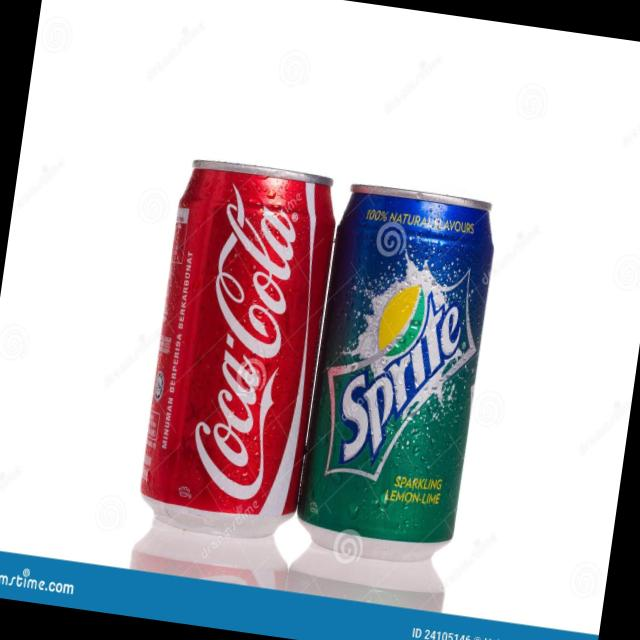cocacola: (108, 126, 362, 542)
sprite: (286, 174, 528, 586)
